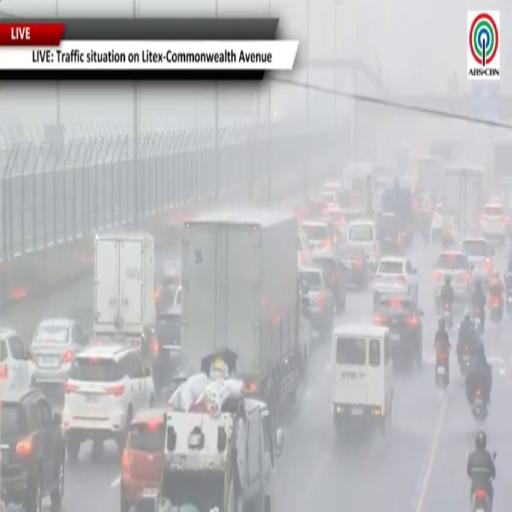car: (63, 345, 155, 463), (0, 389, 65, 511), (332, 325, 393, 434), (120, 408, 166, 511), (30, 318, 88, 389), (373, 296, 423, 367), (299, 267, 334, 339), (153, 306, 181, 394), (433, 250, 473, 310), (312, 252, 347, 313), (373, 256, 418, 302), (0, 328, 32, 389), (346, 220, 380, 271), (462, 237, 494, 282), (154, 260, 181, 312), (339, 246, 369, 287), (376, 213, 405, 254), (301, 220, 339, 250), (481, 202, 507, 244), (323, 205, 346, 233), (300, 199, 325, 221), (431, 203, 444, 241), (323, 182, 344, 203), (297, 233, 309, 266), (320, 190, 337, 205), (173, 285, 182, 307)
motorcycle: (472, 388, 488, 422), (436, 350, 448, 390), (472, 488, 492, 511), (489, 295, 503, 324), (460, 344, 470, 376), (443, 302, 452, 329), (474, 308, 483, 334), (506, 288, 511, 314)
truck: (181, 211, 302, 414), (161, 374, 283, 511), (94, 233, 157, 365), (442, 166, 483, 242), (378, 183, 414, 244), (340, 163, 375, 219), (417, 156, 443, 201)
